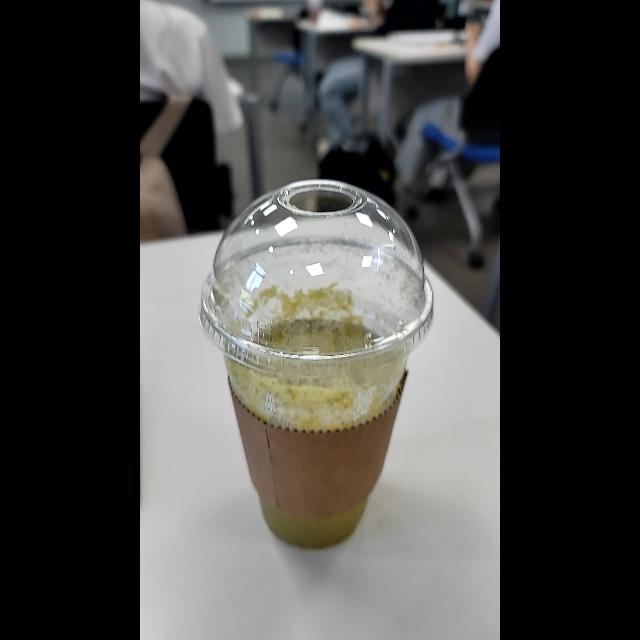plastic_cup: (197, 175, 439, 560)
plastic_cup_lid: (199, 176, 437, 378)
